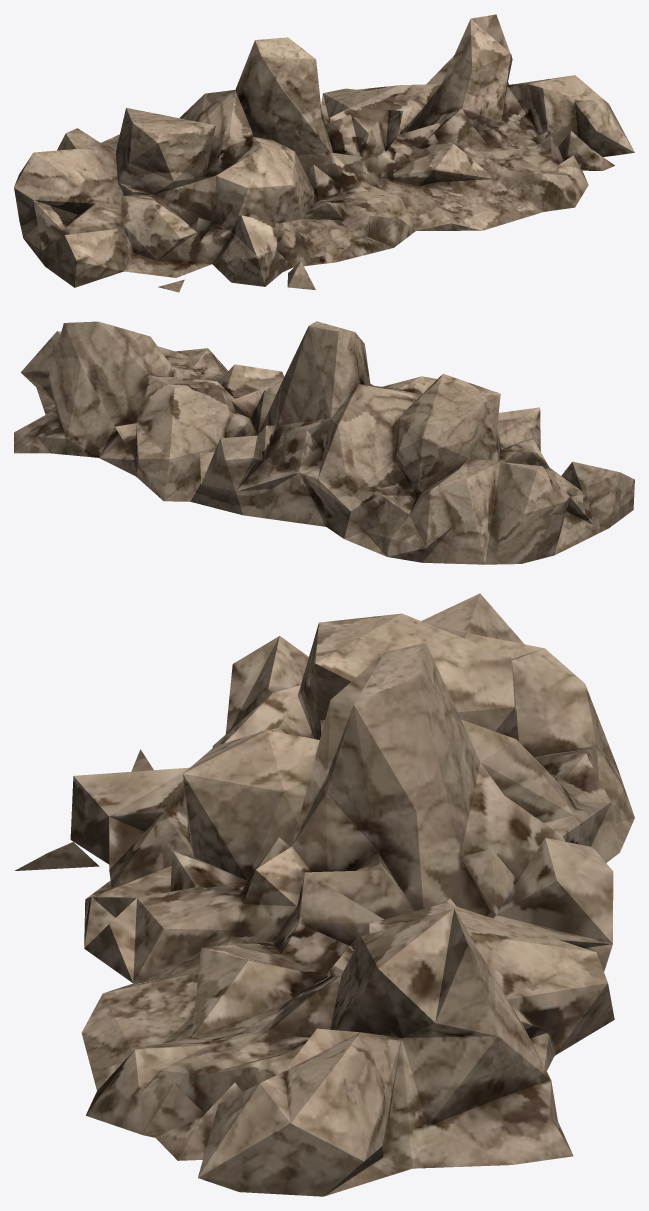
File: zone.blocked.glb
The picture shows the model from 3 angles, top to bottom: view 1: azimuth 30°, elevation 25°; view 2: azimuth 150°, elevation 25°; view 3: azimuth 270°, elevation 25°; orthographic projection. The views are drawn at different scales.
Parts seen in each view (by area): view 1: body; view 2: body; view 3: body.
Boxes of the visible parts, bbox=[...] form: body: bbox=[14, 14, 634, 292]; body: bbox=[14, 321, 634, 564]; body: bbox=[15, 593, 634, 1196].
Bounding box in the file's own units: 0.972 × 0.255 × 0.5205.
1 material, 1 textured.
